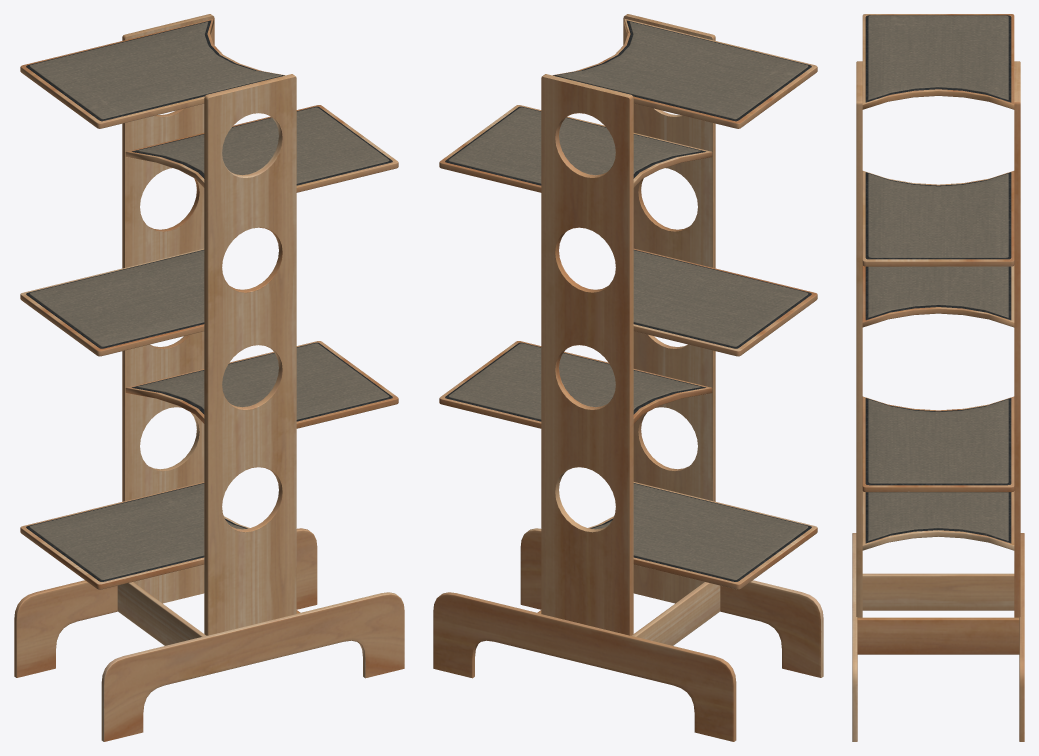
Rendered from MEGA_PACK_Pet__pet-81869_frame_brown.glb.
The picture shows the model from 3 angles, left to right: view 1: azimuth 30°, elevation 25°; view 2: azimuth 150°, elevation 25°; view 3: azimuth 270°, elevation 25°; orthographic projection. The views are drawn at different scales.
Parts seen in each view (by area): view 1: pet-81869_frame_brown; view 2: pet-81869_frame_brown; view 3: pet-81869_frame_brown.
Boxes of the visible parts, <box> form: pet-81869_frame_brown: <box>14,14,404,741</box>; pet-81869_frame_brown: <box>433,14,823,741</box>; pet-81869_frame_brown: <box>852,14,1024,741</box>.
Size of the model in its own units: 0.965 by 1.89 by 0.5.
1 material, 1 textured.
